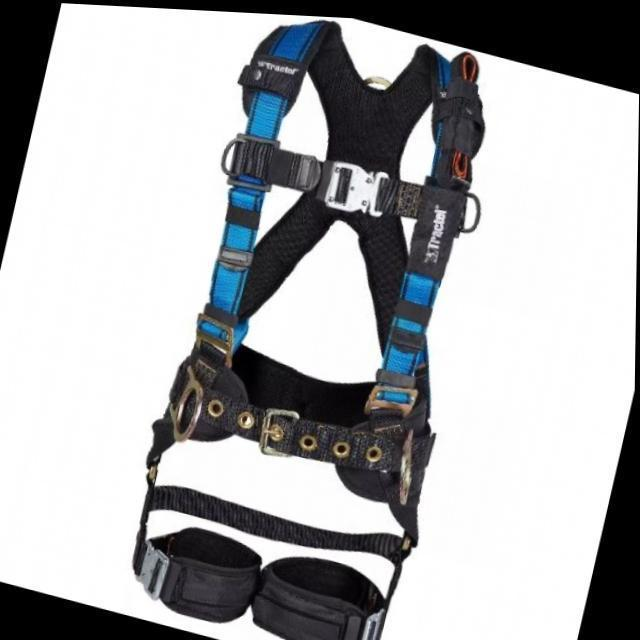Harness: (133, 20, 486, 640)
